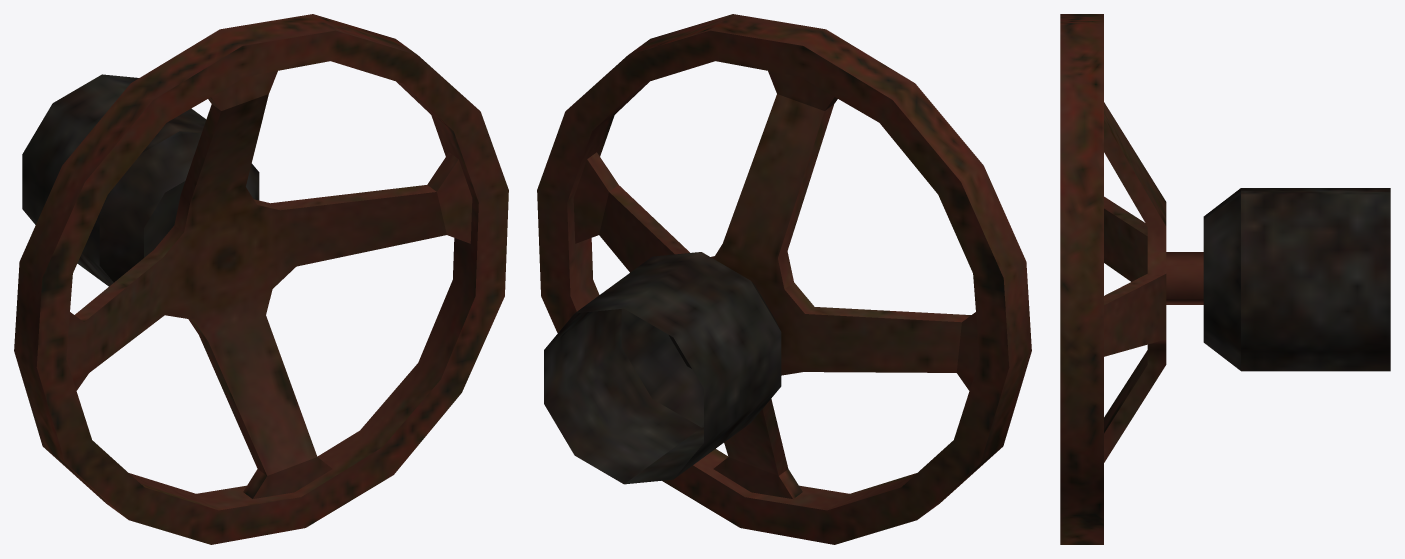
File: pipe_valve_holder_large_1.obj
3 views of the same model, side by side, from view 1: azimuth 30°, elevation 25°; view 2: azimuth 150°, elevation 25°; view 3: azimuth 270°, elevation 25° (orthographic). The views are drawn at different scales.
Parts seen in each view (by area): view 1: valve_1, pipe_valve_holder_large_1; view 2: valve_1, pipe_valve_holder_large_1; view 3: valve_1, pipe_valve_holder_large_1.
Part boxes in pixels (left/top/right/bottom): valve_1: left=14, top=14, right=508, bottom=544; pipe_valve_holder_large_1: left=22, top=74, right=259, bottom=286; valve_1: left=537, top=14, right=1031, bottom=544; pipe_valve_holder_large_1: left=544, top=252, right=781, bottom=484; valve_1: left=1060, top=14, right=1203, bottom=544; pipe_valve_holder_large_1: left=1203, top=188, right=1390, bottom=371.
Bounding box in the file's own units: 0.2811 × 0.2831 × 0.1767.
